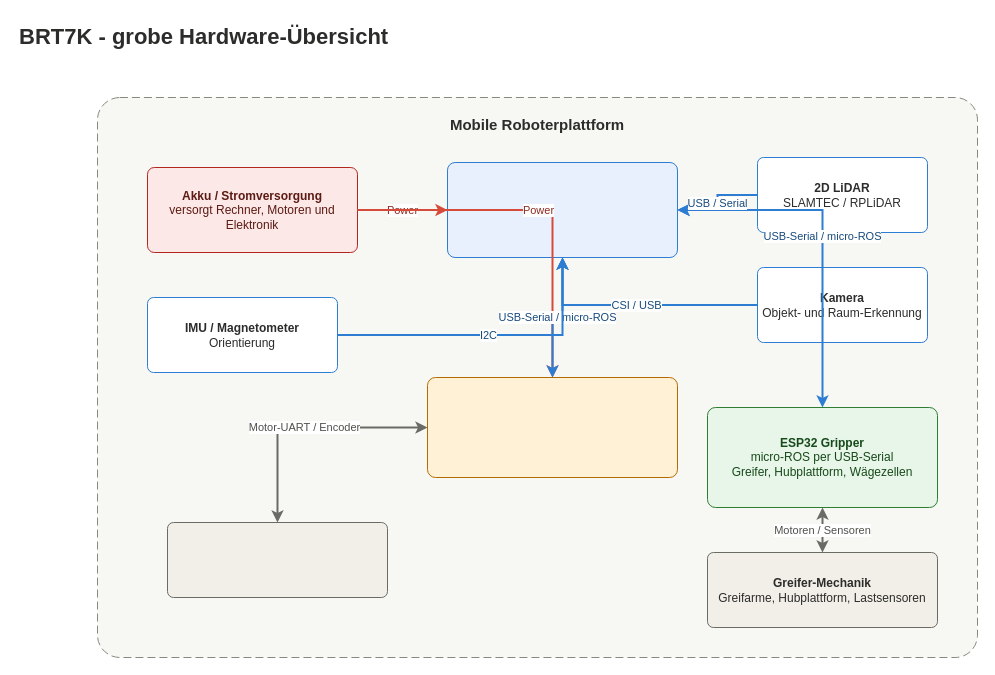
Image size: 995x675. Some labels were removed from this diagram. Each missing label, with the centre of its shape:
"Differentialantrieb 2x AGV-Motor mit Encoder" goes at point (277, 560).
"ESP32 Drive / PSU micro-ROS per USB-Serial Motoren, Batterie, TOF, LEDs" goes at point (552, 427).
"Raspberry Pi / Hauptrechner Ubuntu + ROS 2 zentrale Verarbeitung" goes at point (562, 210).
